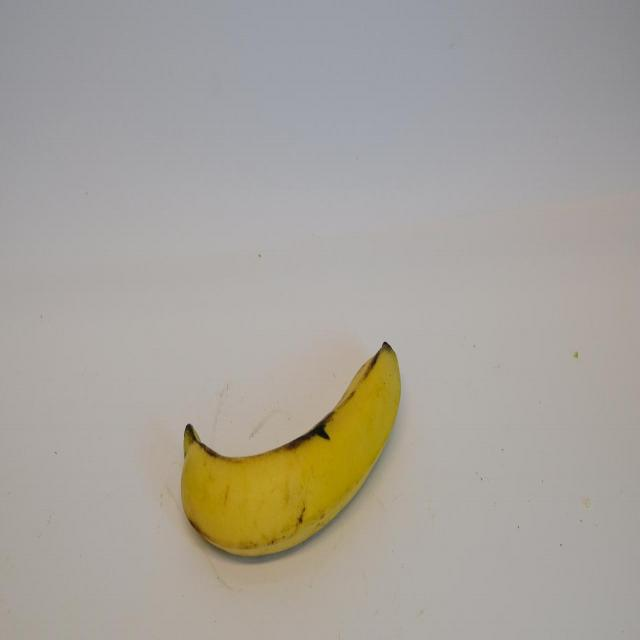banana: (179, 334, 406, 573)
